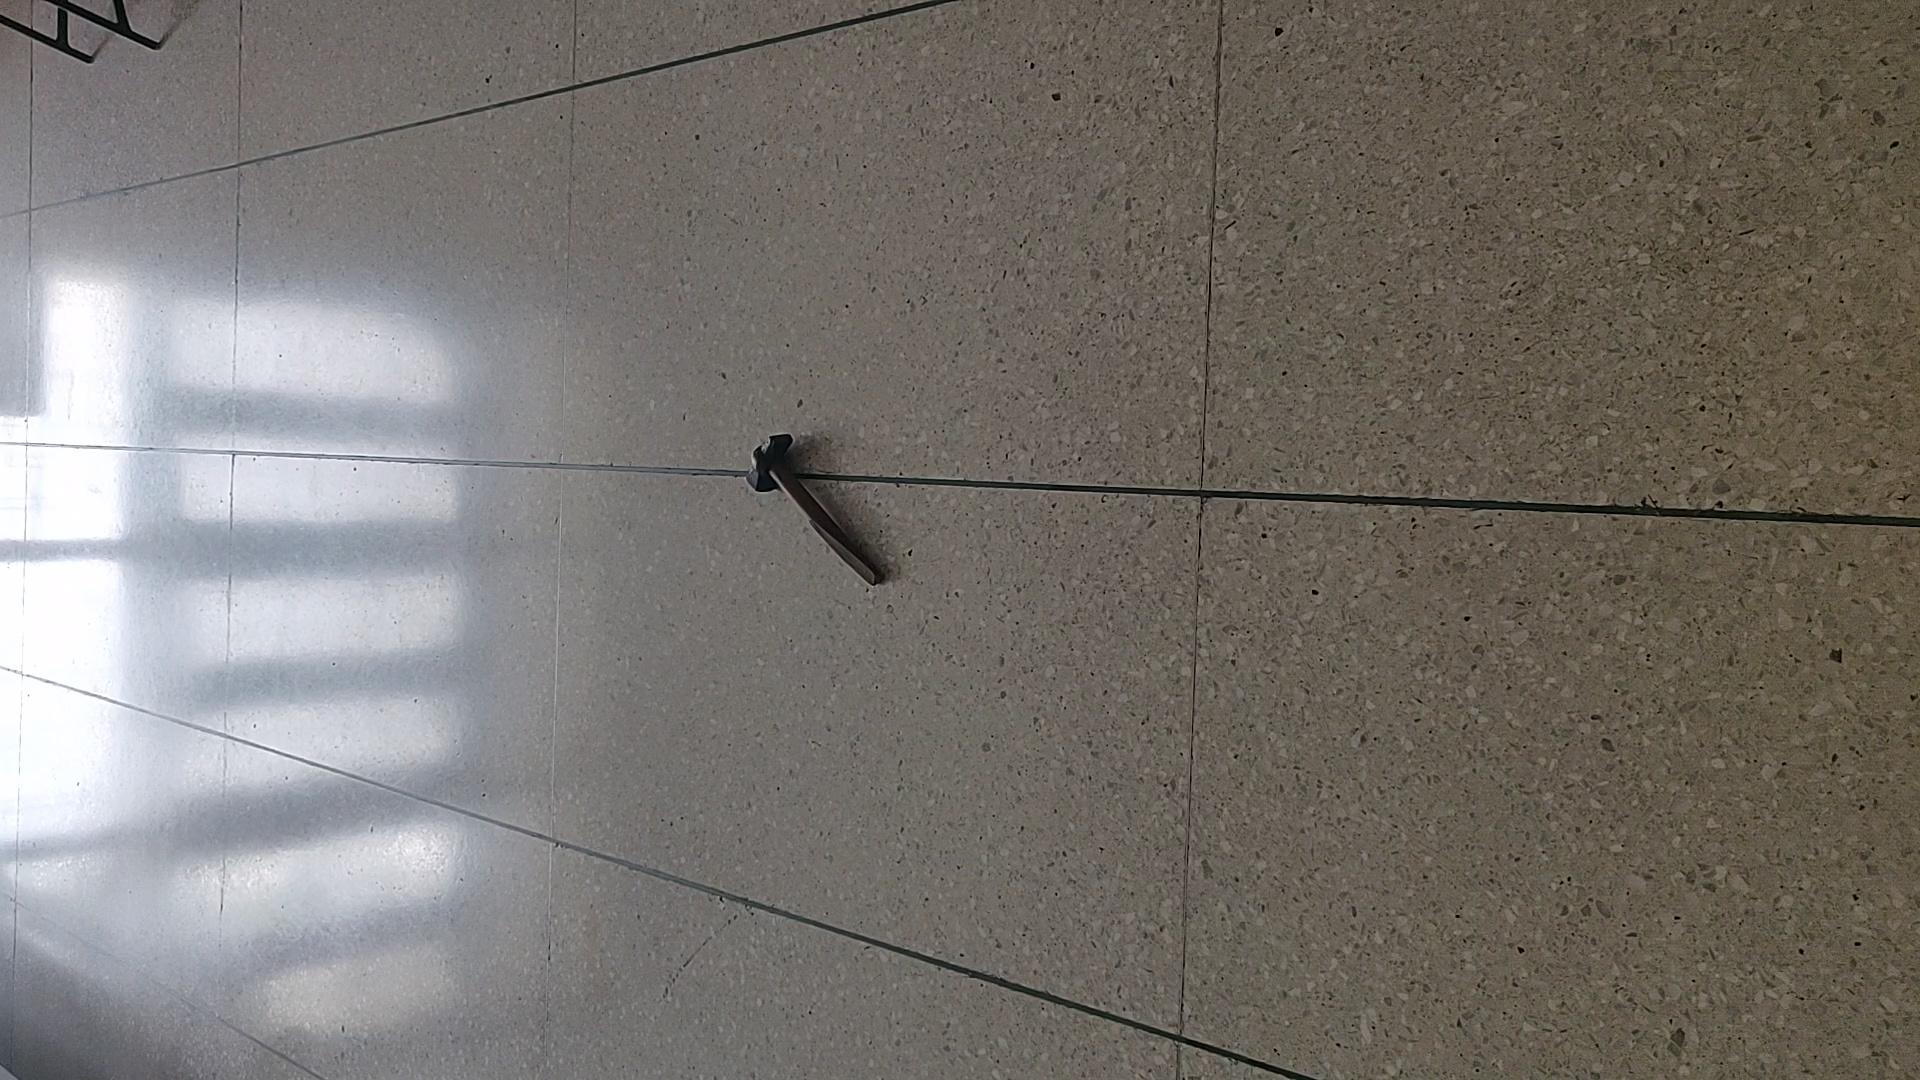hammer: (742, 431, 877, 585)
